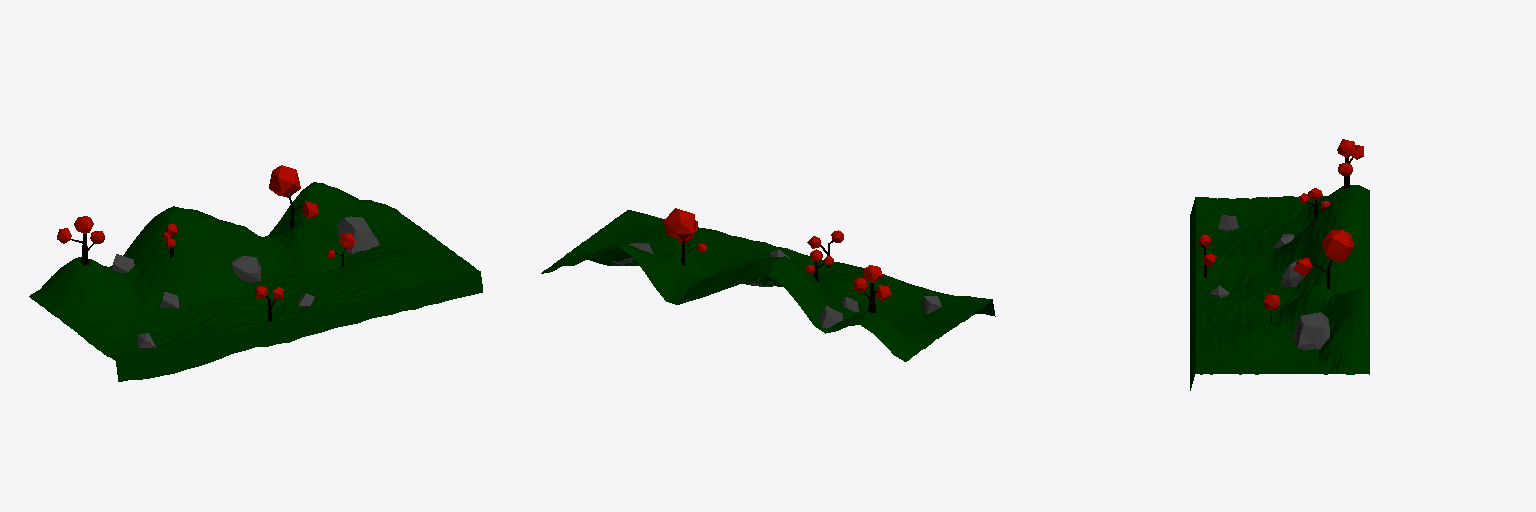
Rendered from dusk_2.obj.
3 views of the same model, side by side, from view 1: azimuth 30°, elevation 25°; view 2: azimuth 150°, elevation 25°; view 3: azimuth 270°, elevation 25° (orthographic).
Visible parts, largest first — view 1: Plane, Cylinder.000, Cube.002_Cube.003, Cube.001_Cube.002, Cube_Cube.001; view 2: Plane, Cylinder.000, Cube.001_Cube.002; view 3: Plane, Cylinder.000, Cube.002_Cube.003, Cube.001_Cube.002.
Part boxes in pixels (x1,y1,x2,y2): Plane: (29, 182, 482, 381); Cylinder.000: (269, 165, 318, 228); Cube.002_Cube.003: (337, 216, 379, 253); Cube.001_Cube.002: (57, 216, 104, 265); Cube_Cube.001: (231, 256, 261, 282); Plane: (541, 210, 995, 361); Cylinder.000: (664, 208, 697, 264); Cube.001_Cube.002: (854, 265, 891, 312); Plane: (1190, 185, 1369, 390); Cylinder.000: (1293, 230, 1354, 289); Cube.002_Cube.003: (1294, 312, 1329, 349); Cube.001_Cube.002: (1337, 139, 1363, 188).
Bounding box in the file's own units: 15.84 × 4.47 × 6.77.